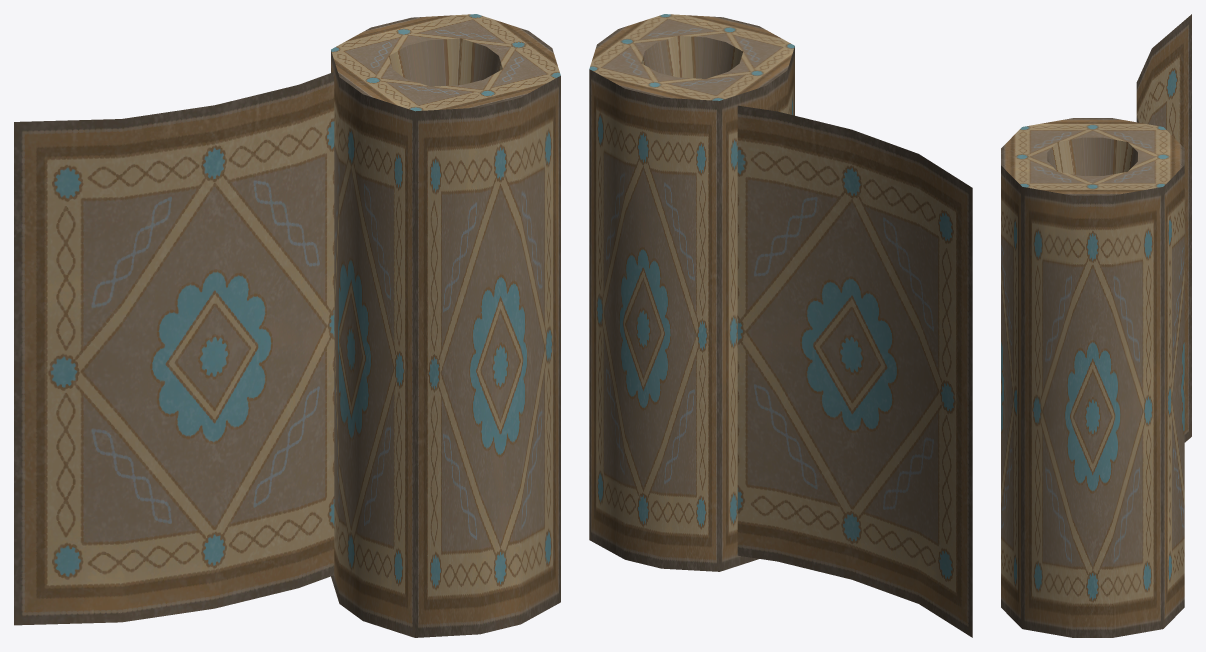
Rendered from WallPaperHand.fbx.
The picture shows the model from 3 angles, left to right: view 1: azimuth 30°, elevation 25°; view 2: azimuth 150°, elevation 25°; view 3: azimuth 270°, elevation 25°; orthographic projection. The views are drawn at different scales.
Visible parts, largest first — view 1: FencePost; view 2: FencePost; view 3: FencePost.
Part boxes in pixels (x1,y1,x2,y2): FencePost: [14, 14, 560, 637]; FencePost: [589, 14, 972, 637]; FencePost: [1001, 14, 1191, 637].
Bounding box in the file's own units: 0.8893 × 0.9578 × 0.3748.
Materials: 1 (1 with a texture image).
